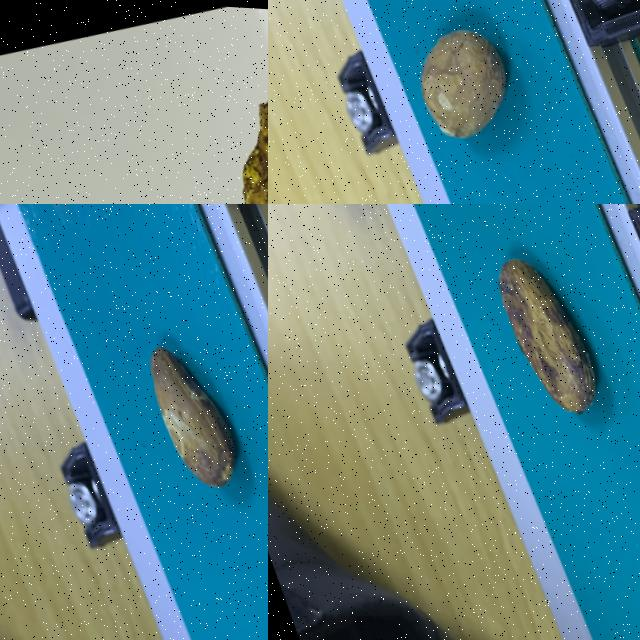Agglomerated_cocoabeans: (168, 0, 267, 203)
Fine_cocoabeans: (45, 208, 267, 632), (430, 204, 639, 521), (362, 0, 579, 203)
